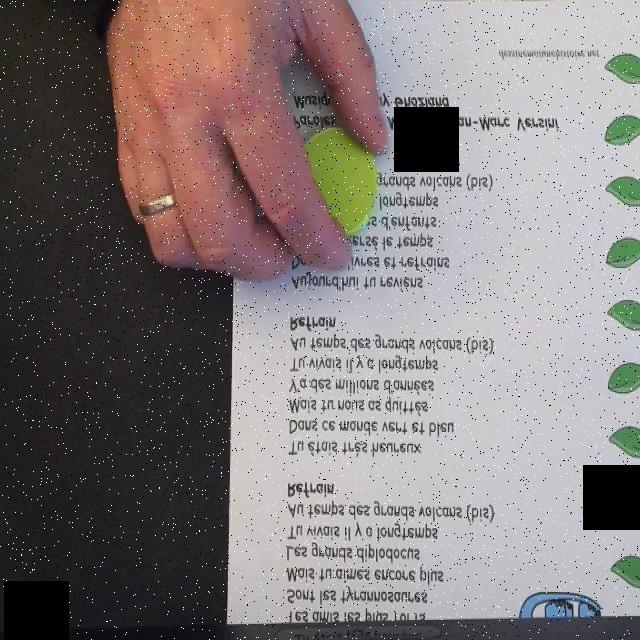round: (291, 125, 379, 238)
